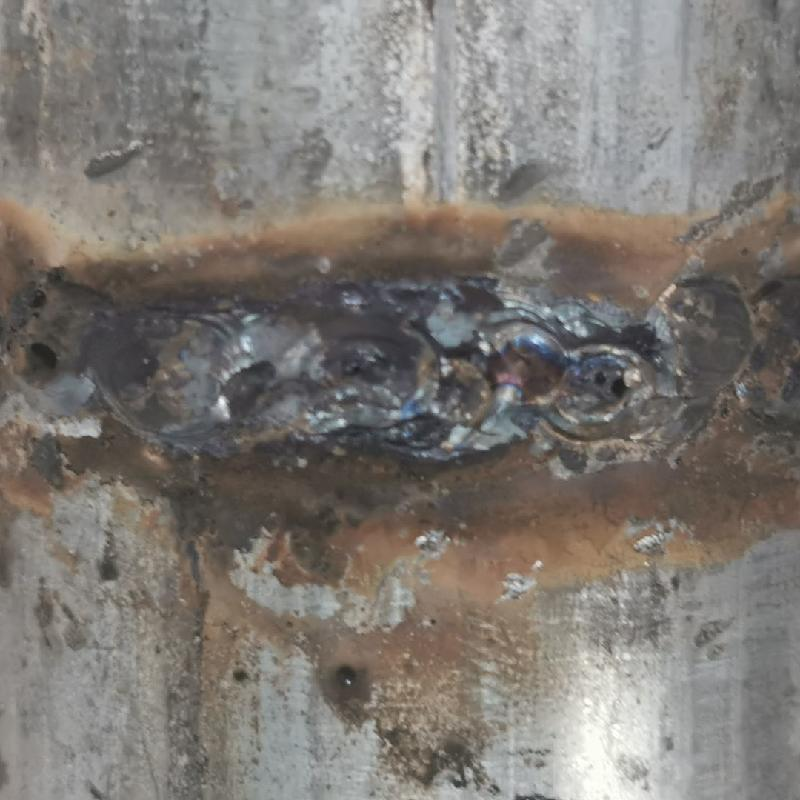Surface_pores: (3, 290, 78, 390), (588, 355, 641, 416)
crater: (281, 317, 799, 452)
